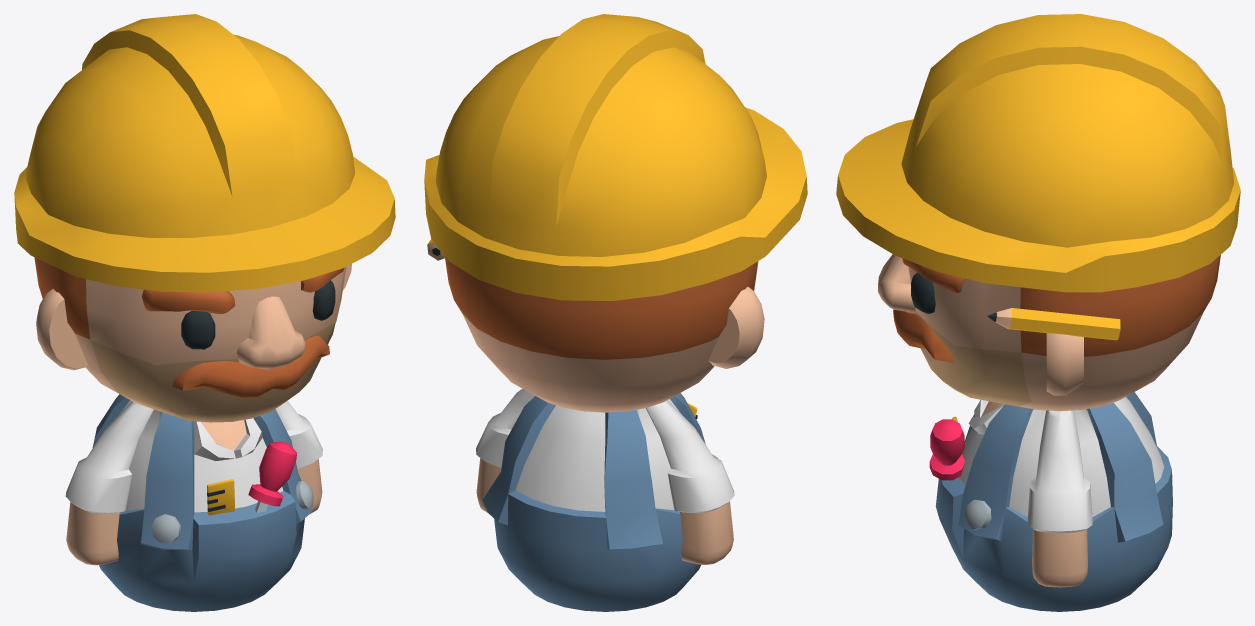
The model's file is character_builder.gltf.
The picture shows the model from 3 angles, left to right: view 1: azimuth 30°, elevation 25°; view 2: azimuth 150°, elevation 25°; view 3: azimuth 270°, elevation 25°; orthographic projection.
Visible parts, largest first — view 1: character_builder_hat, character_builder_head, character_builder_body, character_builder_armRight, character_builder_armLeft; view 2: character_builder_hat, character_builder_body, character_builder_head, character_builder_armRight, character_builder_armLeft; view 3: character_builder_hat, character_builder_body, character_builder_head, character_builder_armLeft.
Boxes of the visible parts, box(x1,y1,x2,y2) form: character_builder_hat: box(14, 14, 395, 292); character_builder_head: box(34, 257, 351, 422); character_builder_body: box(92, 394, 313, 611); character_builder_armRight: box(65, 401, 153, 565); character_builder_armLeft: box(275, 401, 322, 513); character_builder_hat: box(424, 14, 807, 300); character_builder_body: box(483, 393, 718, 611); character_builder_head: box(427, 239, 764, 412); character_builder_armRight: box(645, 400, 734, 564); character_builder_armLeft: box(476, 389, 534, 512); character_builder_hat: box(836, 14, 1240, 292); character_builder_body: box(929, 392, 1172, 611); character_builder_head: box(878, 254, 1220, 411); character_builder_armLeft: box(1027, 410, 1092, 587).
Bounding box in the file's own units: 1.23 × 1.97 × 1.31.
